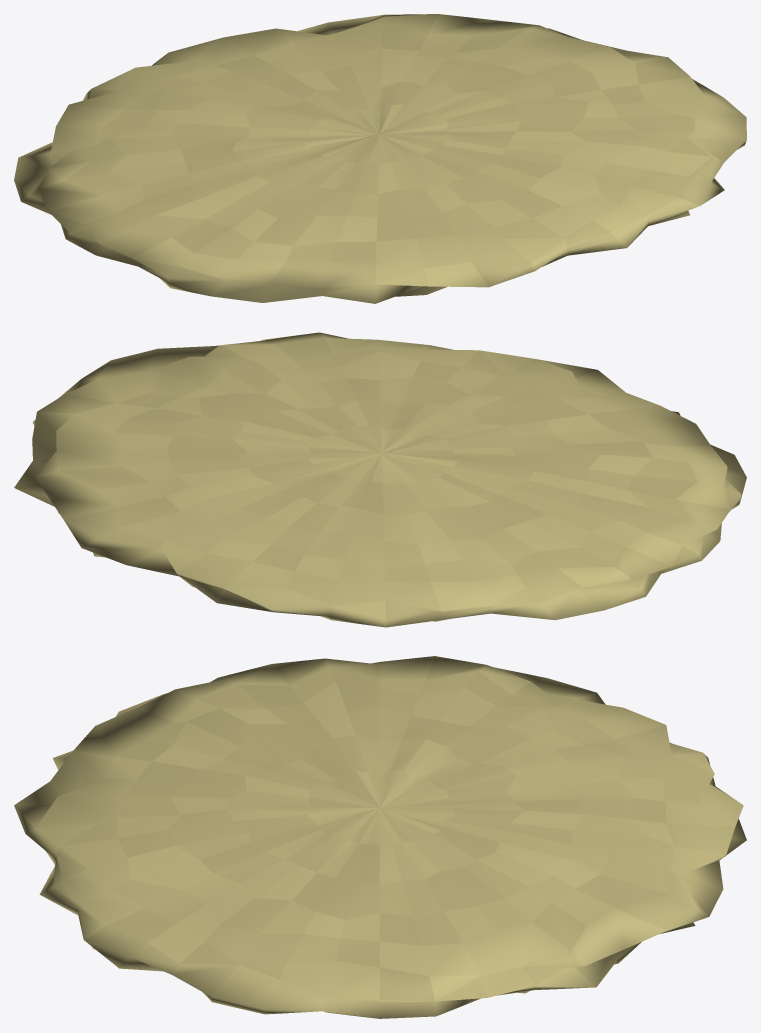
Rendered from LemonJuice.glb.
3 views of the same model, one above another, from view 1: azimuth 30°, elevation 25°; view 2: azimuth 150°, elevation 25°; view 3: azimuth 270°, elevation 25° (orthographic). The views are drawn at different scales.
Visible parts, largest first — view 1: LemonJuice; view 2: LemonJuice; view 3: LemonJuice.
Part boxes in pixels (bbox=[...]): LemonJuice: bbox=[14, 14, 746, 303]; LemonJuice: bbox=[14, 332, 746, 627]; LemonJuice: bbox=[14, 656, 746, 1018].
Size of what is drawn, in the model's own units: 0.0715 by 0.00579 by 0.0627.
